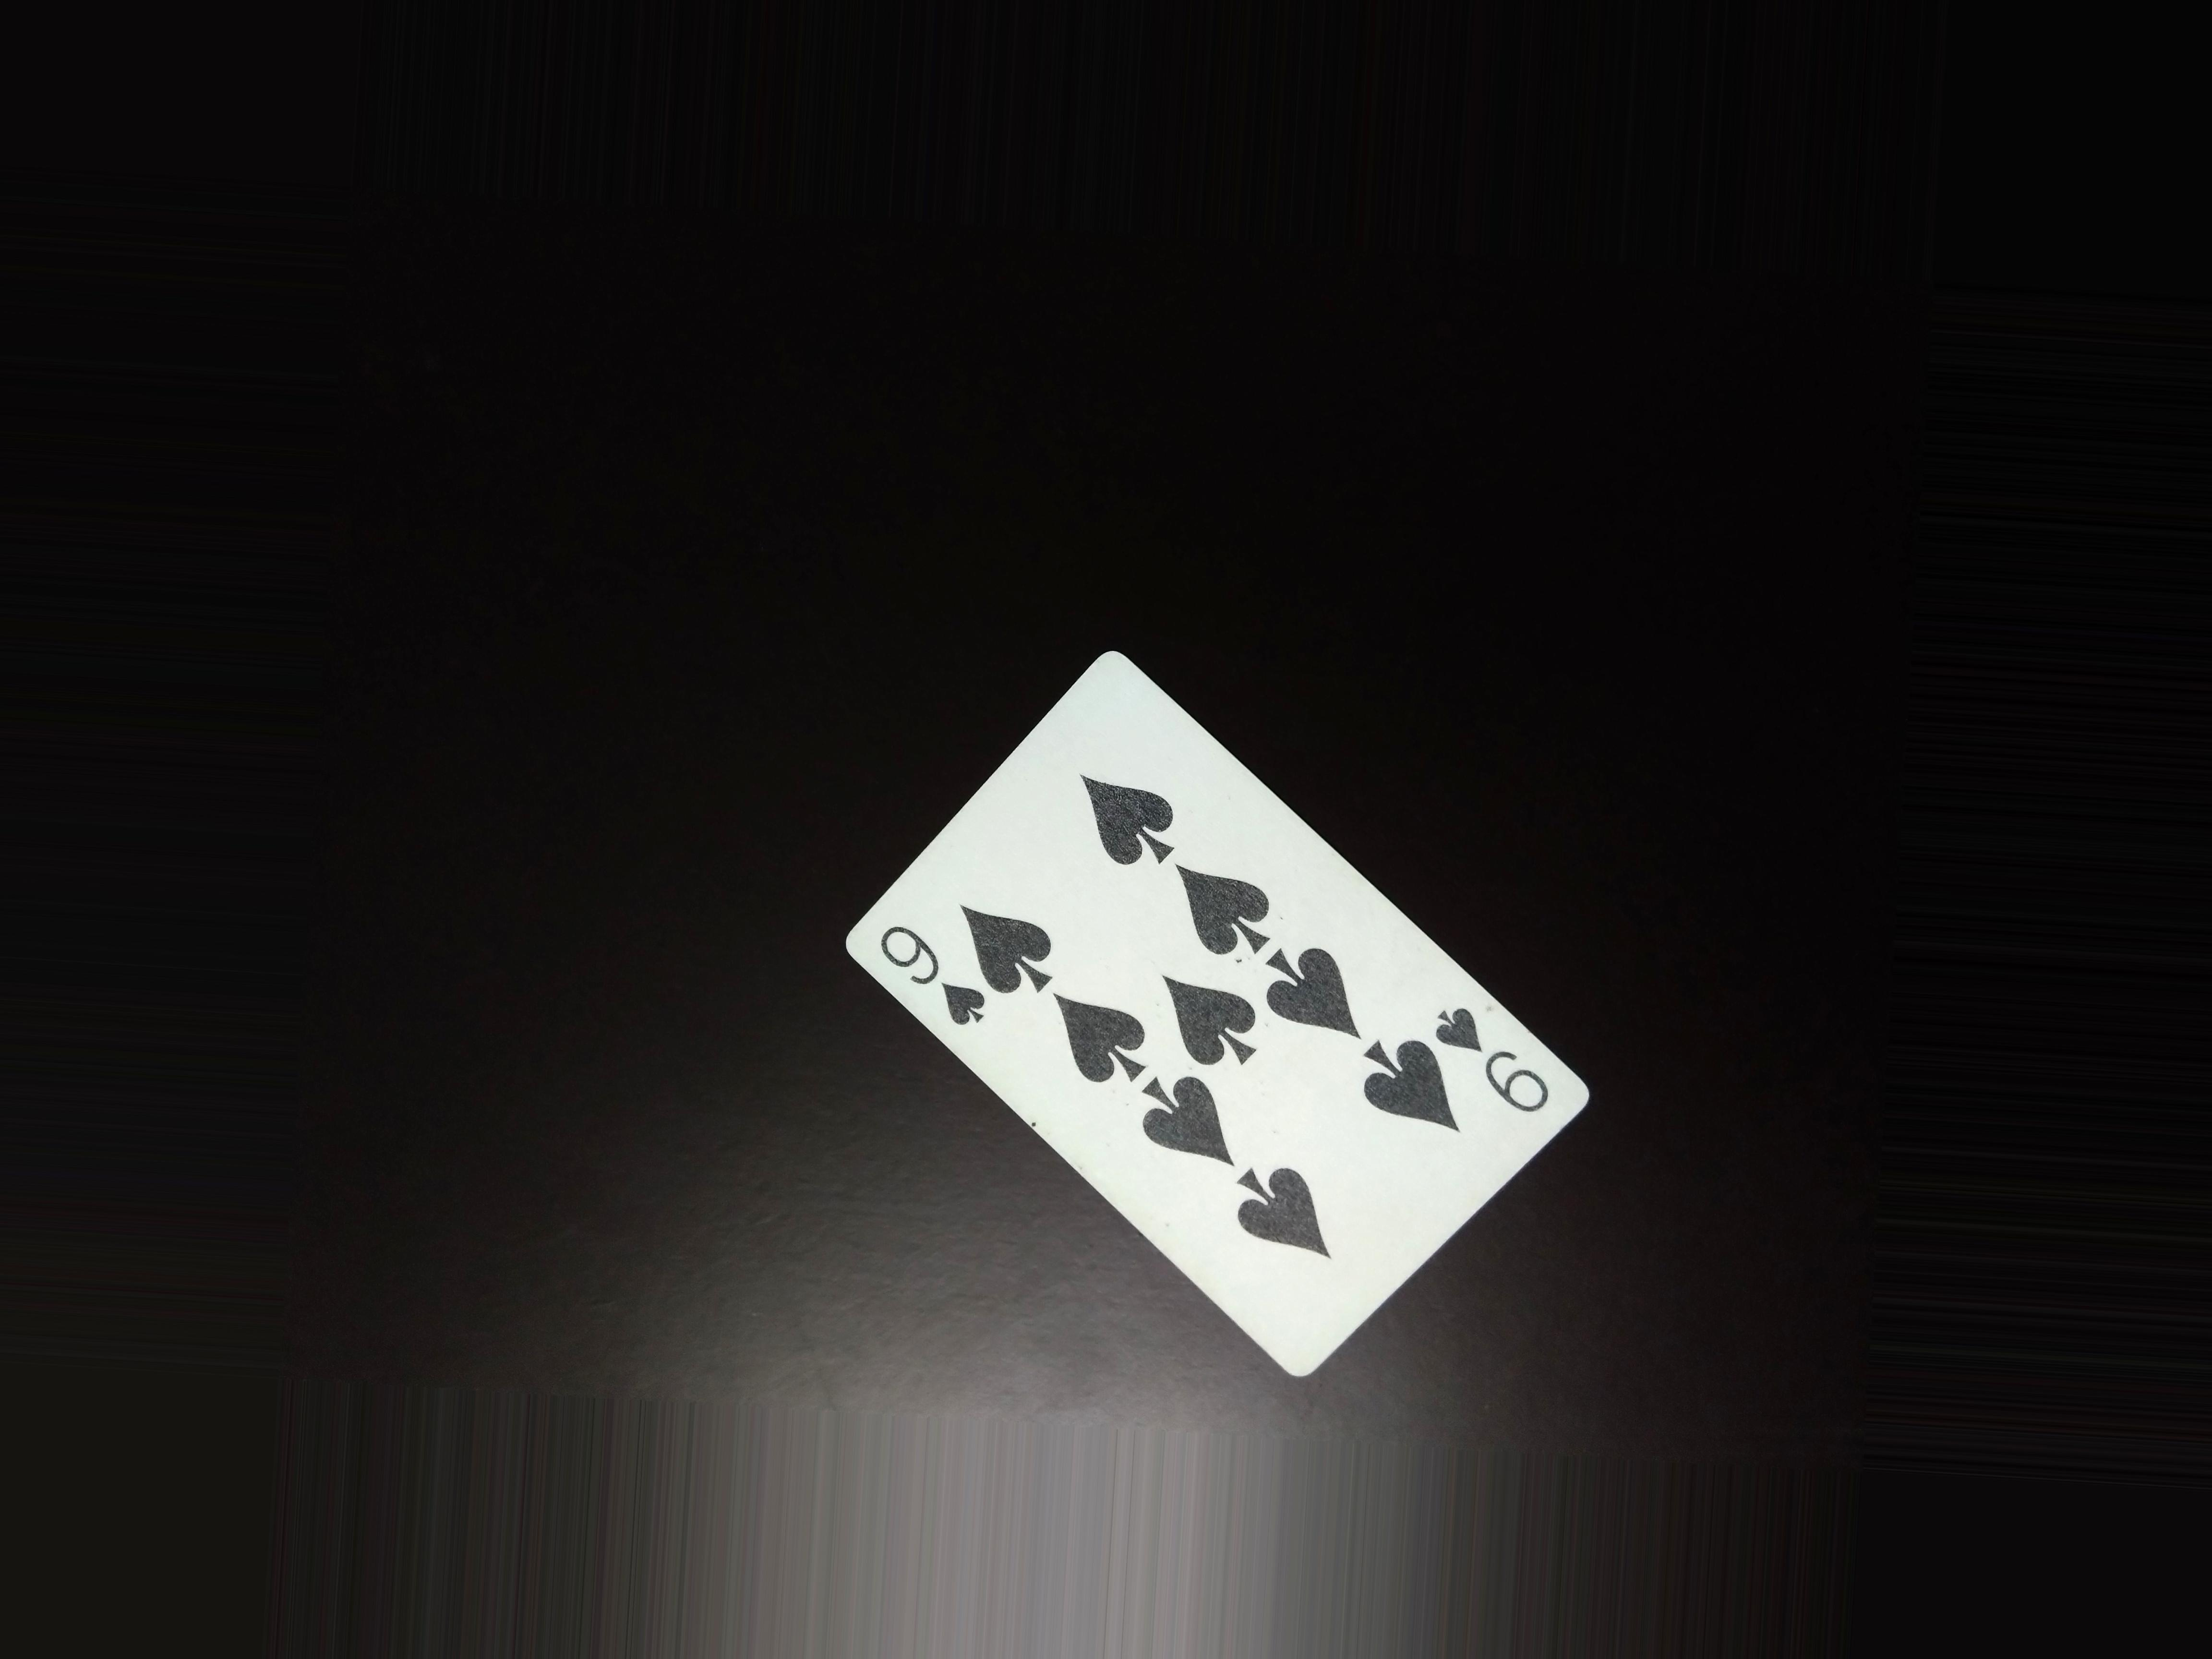9S: (871, 908, 993, 1040)
